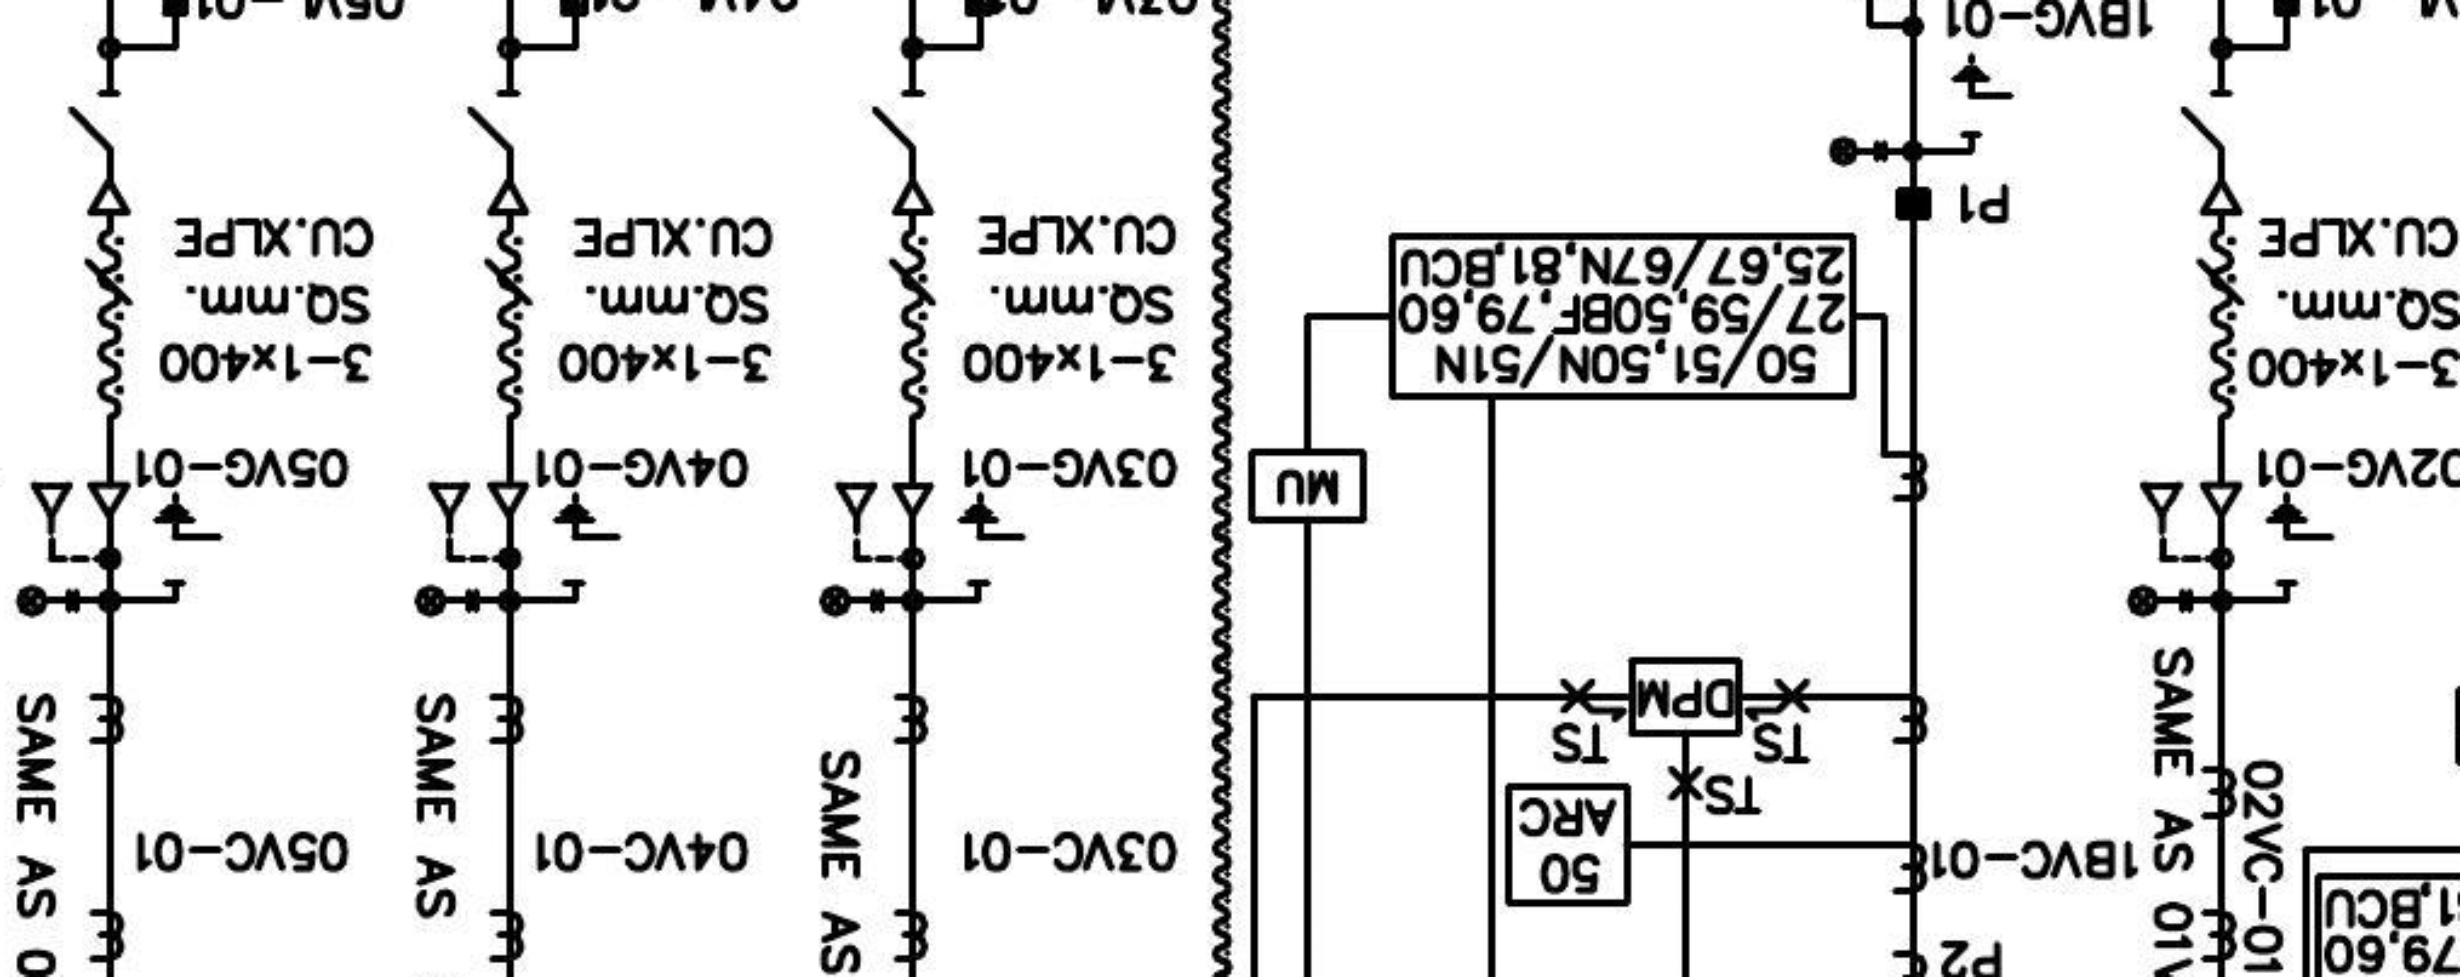22_gs: (2264, 491, 2338, 588), (955, 491, 1029, 588), (551, 491, 624, 587), (151, 492, 224, 588), (1950, 50, 2014, 140)
22_ll: (413, 582, 482, 619), (2126, 583, 2195, 619), (817, 583, 886, 619), (14, 583, 82, 619), (1826, 133, 1890, 168)
DPM: (1628, 656, 1745, 739)
MU: (1247, 447, 1368, 525)
terminator_single: (2196, 177, 2245, 218), (85, 179, 133, 220), (890, 177, 937, 218), (485, 177, 532, 218)
terminator_w_future: (2137, 480, 2245, 565), (828, 480, 937, 565), (25, 480, 133, 565), (424, 480, 532, 563)
